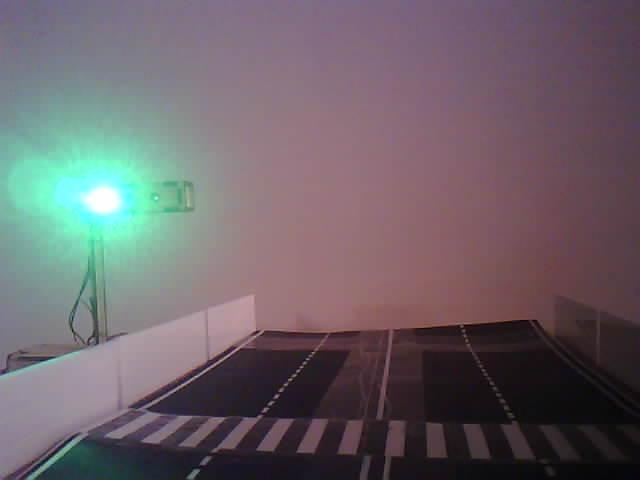crosswalk: (53, 404, 640, 462)
green: (34, 169, 203, 287)
